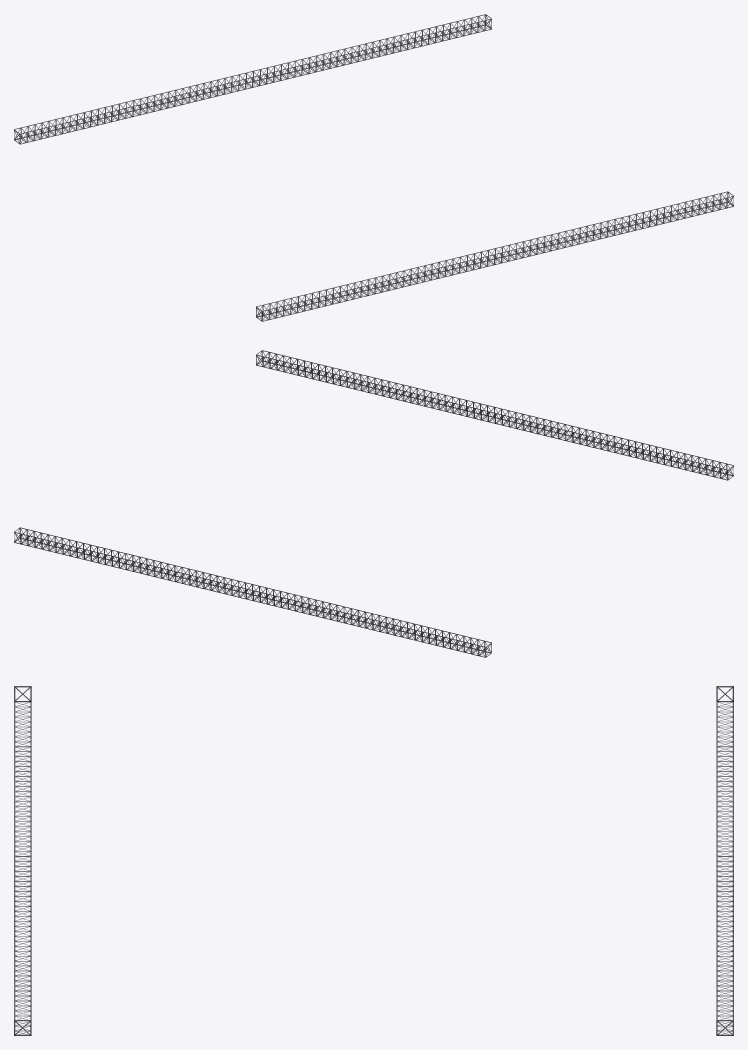
The model's file is dt_med2_supports.fbx.
3 renders of one model, top to bottom at view 1: azimuth 30°, elevation 25°; view 2: azimuth 150°, elevation 25°; view 3: azimuth 270°, elevation 25°, orthographic. The views are drawn at different scales.
Visible parts, largest first — view 1: mesh_0, mesh_1; view 2: mesh_1, mesh_0; view 3: mesh_0, mesh_1.
Boxes of the visible parts, x1,y1,x2,y2 form: mesh_0: (14,14,491,144); mesh_1: (256,191,733,321); mesh_1: (256,350,733,480); mesh_0: (14,527,491,657); mesh_0: (716,686,733,1035); mesh_1: (14,686,31,1035).
Bounding box in the file's own units: 1800 × 40 × 1640.
Materials: 1 (1 with a texture image).
